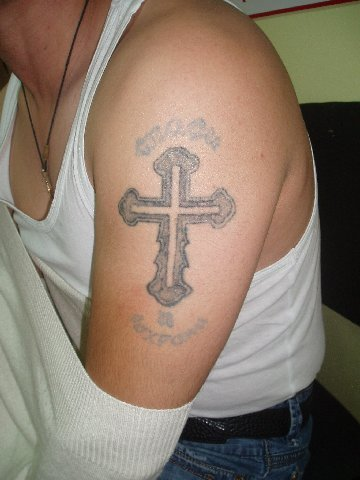tatu9_krest: (115, 143, 239, 310)
